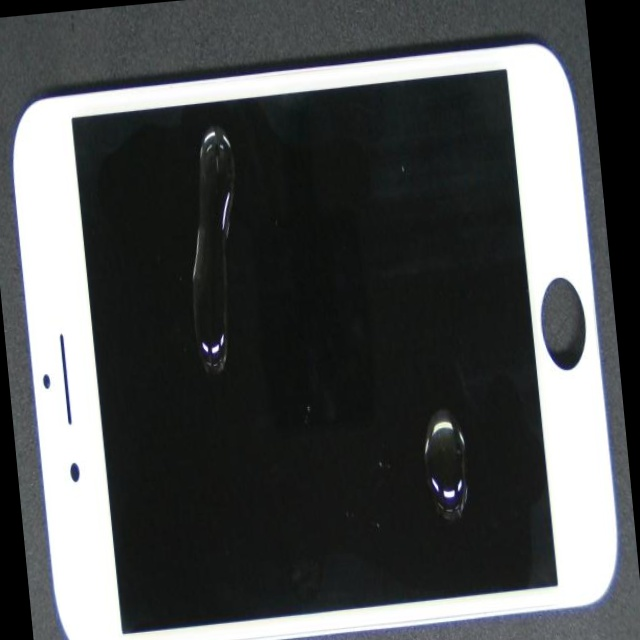oil: (236, 210, 640, 640), (111, 124, 363, 268)
